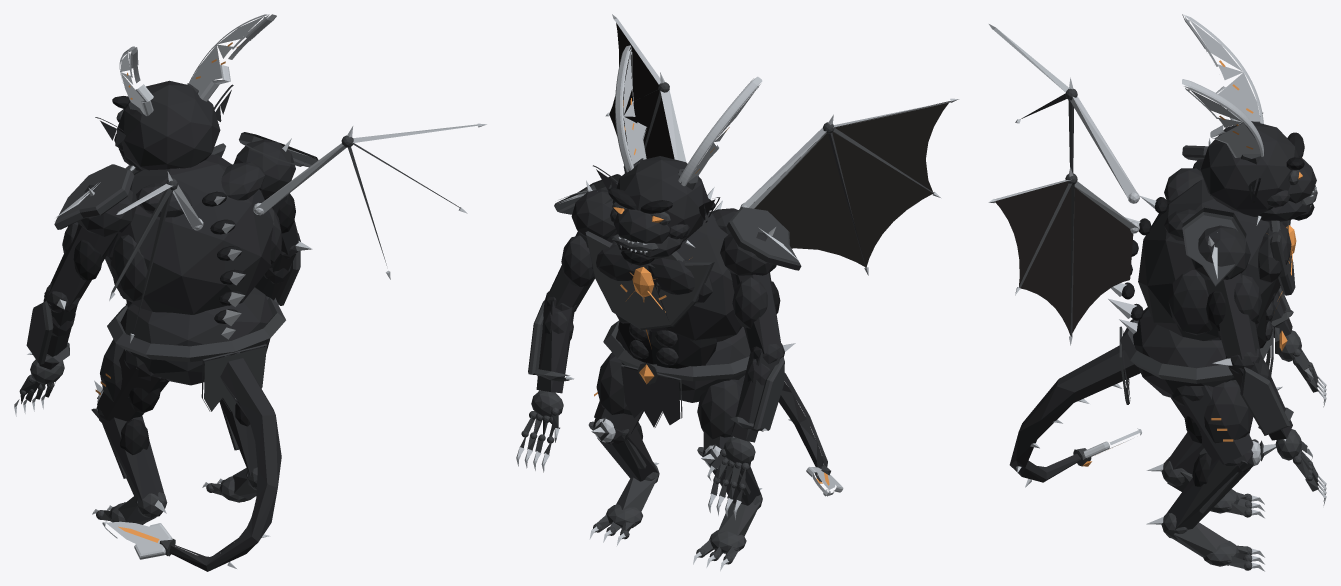
Rendered from LesserDemon.ready.glb.
The picture shows the model from 3 angles, left to right: view 1: azimuth 30°, elevation 25°; view 2: azimuth 150°, elevation 25°; view 3: azimuth 270°, elevation 25°; orthographic projection. The views are drawn at different scales.
Visible parts, largest first — view 1: LesserDemon; view 2: LesserDemon; view 3: LesserDemon.
Part boxes in pixels (x1,y1,x2,y2): LesserDemon: [14, 14, 486, 571]; LesserDemon: [516, 14, 958, 571]; LesserDemon: [988, 14, 1326, 571].
Bounding box in the file's own units: 1.08 × 1.38 × 0.8607.
Materials: 1 (1 with a texture image).
